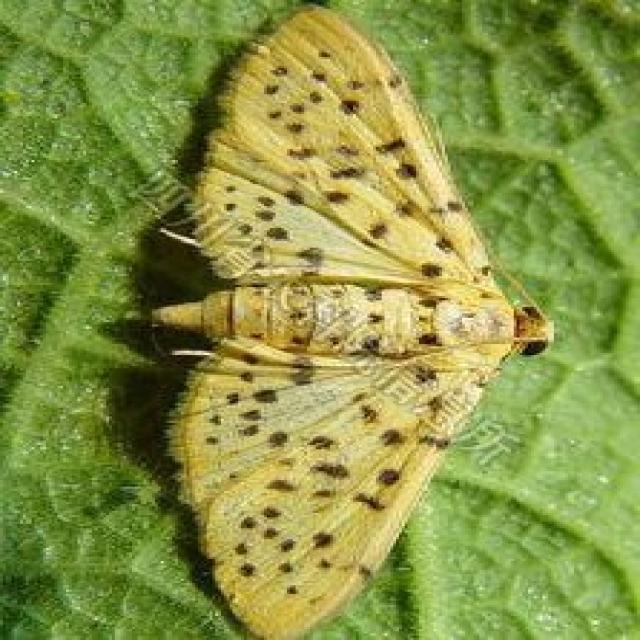peach borer: (143, 8, 559, 639)
